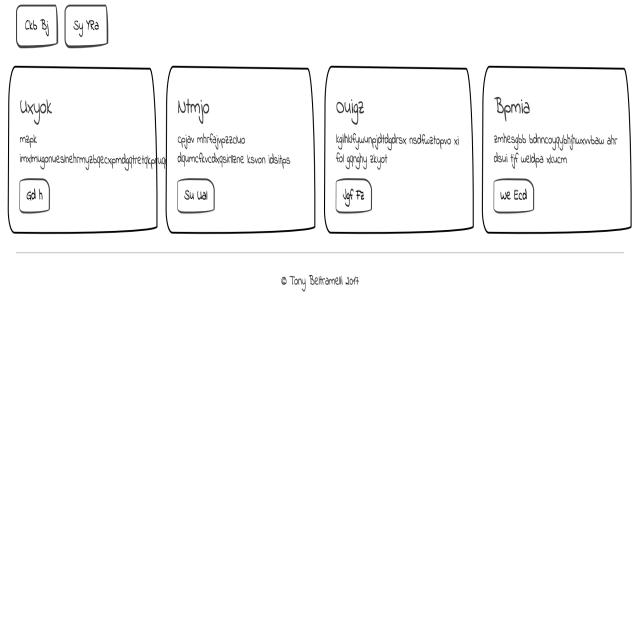Button: (490, 178, 542, 215), (176, 175, 220, 218), (333, 178, 377, 216)
Card: (481, 61, 637, 239), (326, 59, 477, 240), (6, 64, 160, 241), (163, 62, 319, 236)
Footer: (2, 247, 640, 634)
Heading 6: (491, 92, 543, 124), (177, 88, 220, 126), (17, 90, 61, 126), (329, 96, 372, 126)
Navigation Bar: (10, 0, 113, 57)
Paragraph: (491, 126, 624, 173), (17, 131, 165, 173), (332, 130, 464, 174), (173, 129, 300, 174)
